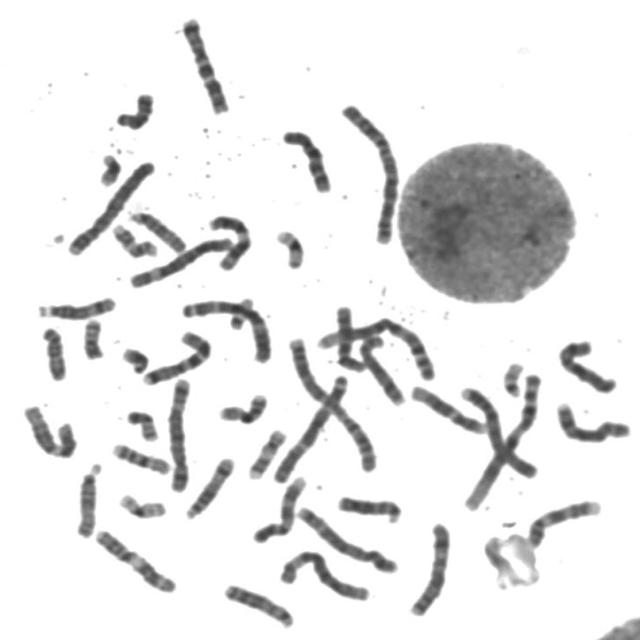A1: (457, 367, 543, 512), (315, 310, 440, 382)
A2: (282, 331, 381, 474), (335, 97, 401, 247)
A3: (268, 368, 352, 484), (176, 292, 274, 364)
B4: (60, 153, 158, 258), (453, 380, 541, 481)
B5: (291, 501, 401, 575), (162, 372, 194, 494)
C10: (275, 122, 335, 194), (329, 299, 366, 373)
C11: (88, 523, 180, 596), (201, 208, 254, 272)
C12: (404, 379, 490, 436), (17, 398, 79, 460)
C6: (124, 232, 235, 289), (274, 545, 372, 603)
C7: (174, 10, 233, 116), (136, 325, 214, 387)
C8: (353, 329, 407, 407), (550, 396, 634, 444)
C9: (247, 470, 310, 545), (520, 494, 604, 550)
D13: (218, 578, 296, 630), (332, 490, 404, 526)
D14: (179, 451, 237, 521), (31, 290, 118, 321)
D15: (123, 204, 189, 254), (69, 457, 104, 540)
E16: (106, 438, 173, 477), (212, 387, 270, 425)
E17: (242, 424, 290, 481), (106, 218, 160, 259)
E18: (34, 320, 70, 382), (110, 86, 156, 130)
F19: (112, 487, 169, 521), (269, 223, 306, 271)
F20: (120, 404, 161, 443), (76, 313, 106, 361)
G21: (92, 148, 124, 188), (115, 340, 151, 375)
G22: (496, 356, 526, 399), (224, 292, 255, 332)
X: (403, 516, 453, 618), (552, 333, 620, 395)
